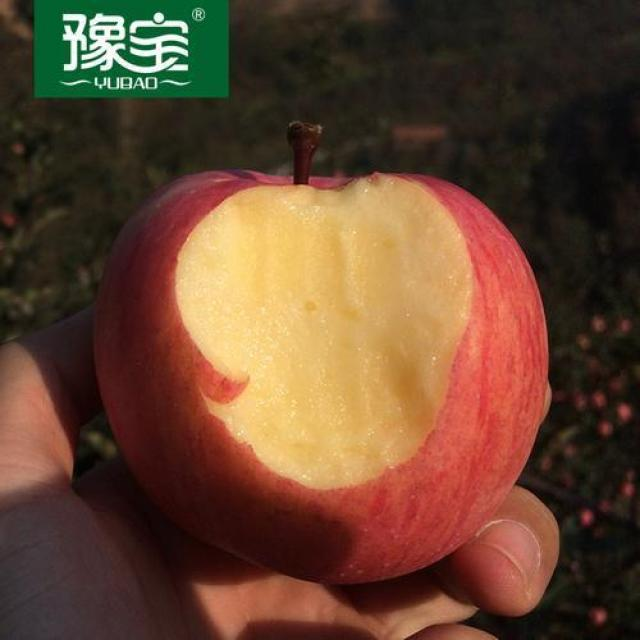Apple: (88, 157, 558, 593)
